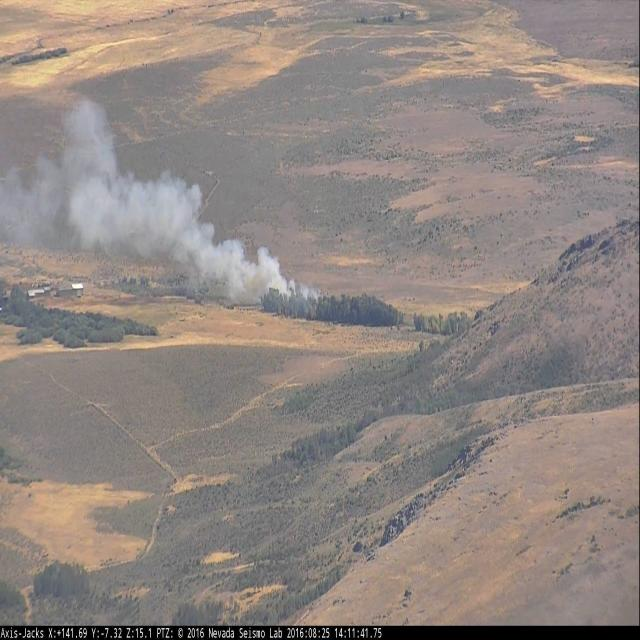smoke: (0, 96, 319, 308)
